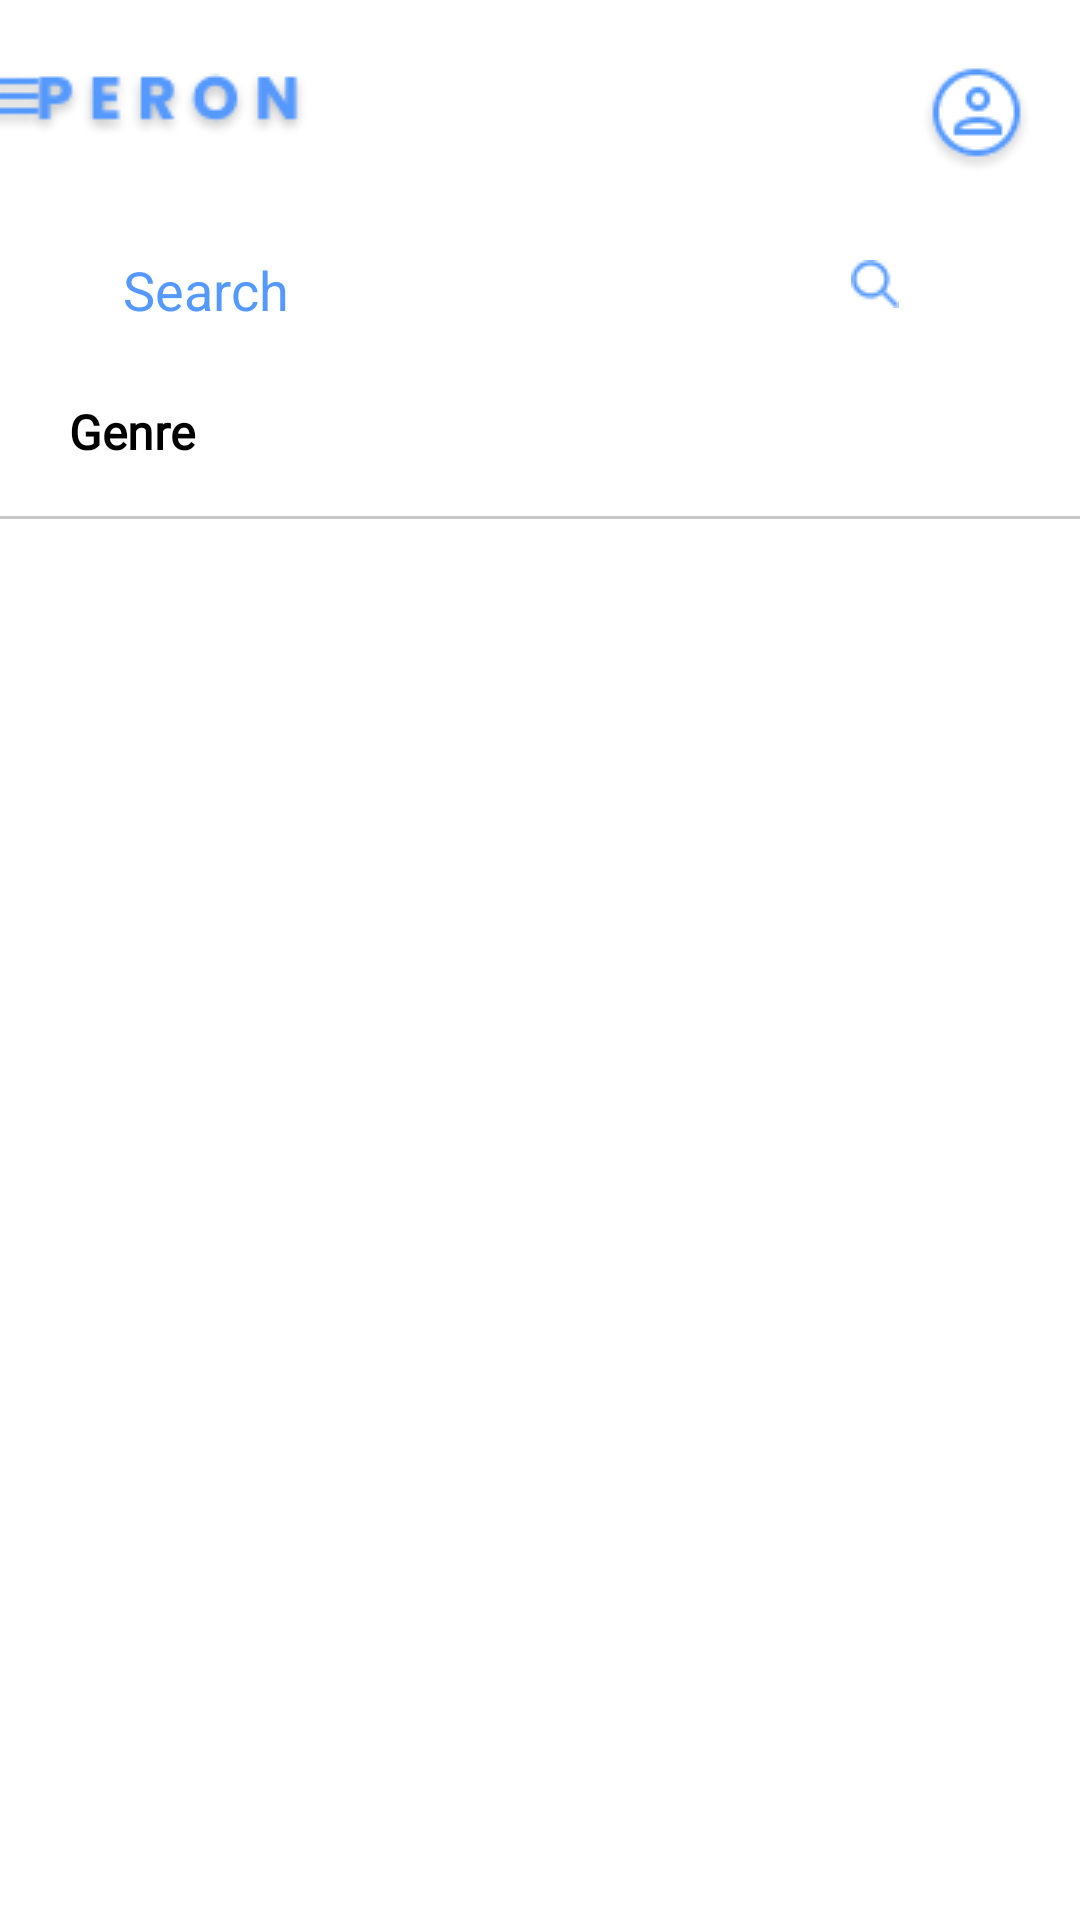

Locate icon controls on the screen. Image size 1080px x 1920px, boxes as rect(x1, y1, x2, y2).
account: rect(932, 68, 1021, 161)
